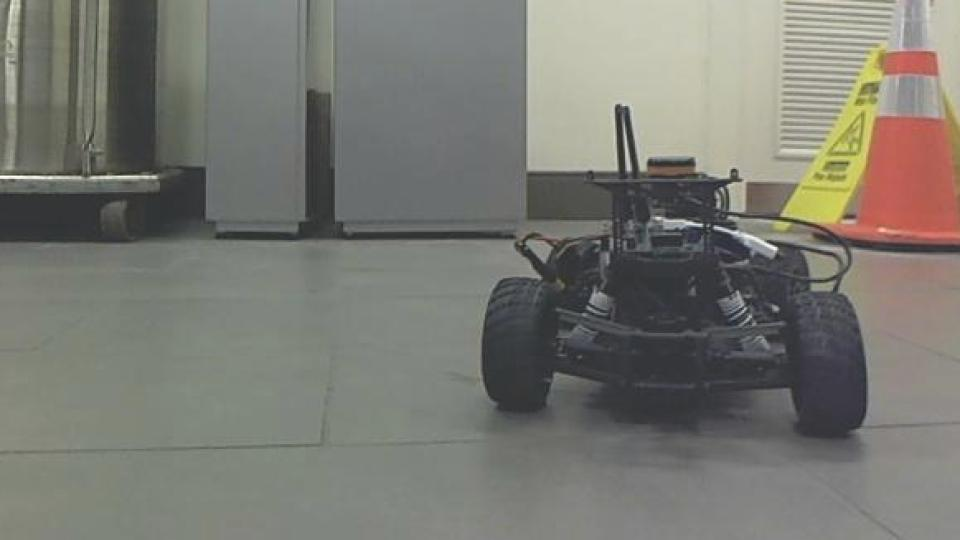car: (475, 101, 873, 441)
